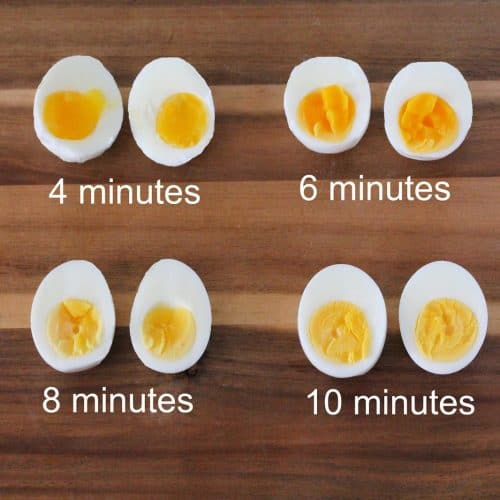egg: (25, 45, 124, 169), (295, 255, 388, 385), (383, 54, 487, 167), (399, 254, 490, 381), (129, 46, 220, 172), (129, 255, 217, 384), (26, 256, 121, 375), (281, 51, 373, 170)
